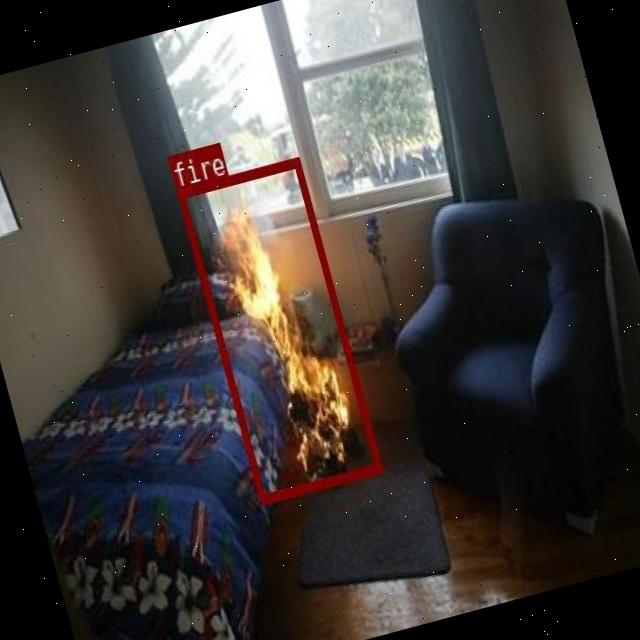fire: (175, 156, 382, 502)
